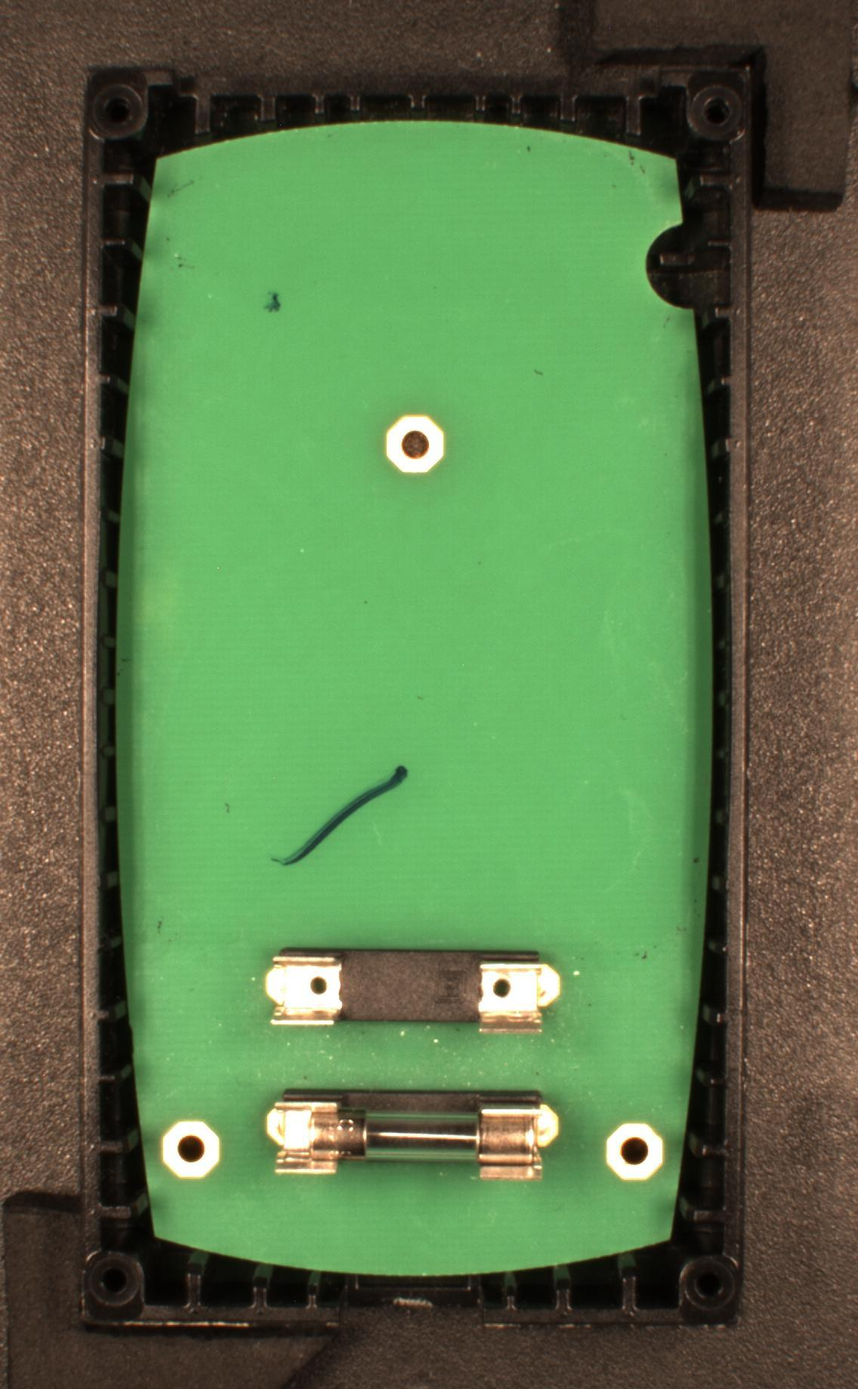Linijsko Ostecene: (271, 762, 410, 871)
Nepostojanje osiguraca: (265, 945, 561, 1036)
Tockasto Ostecenje: (265, 291, 284, 315)
